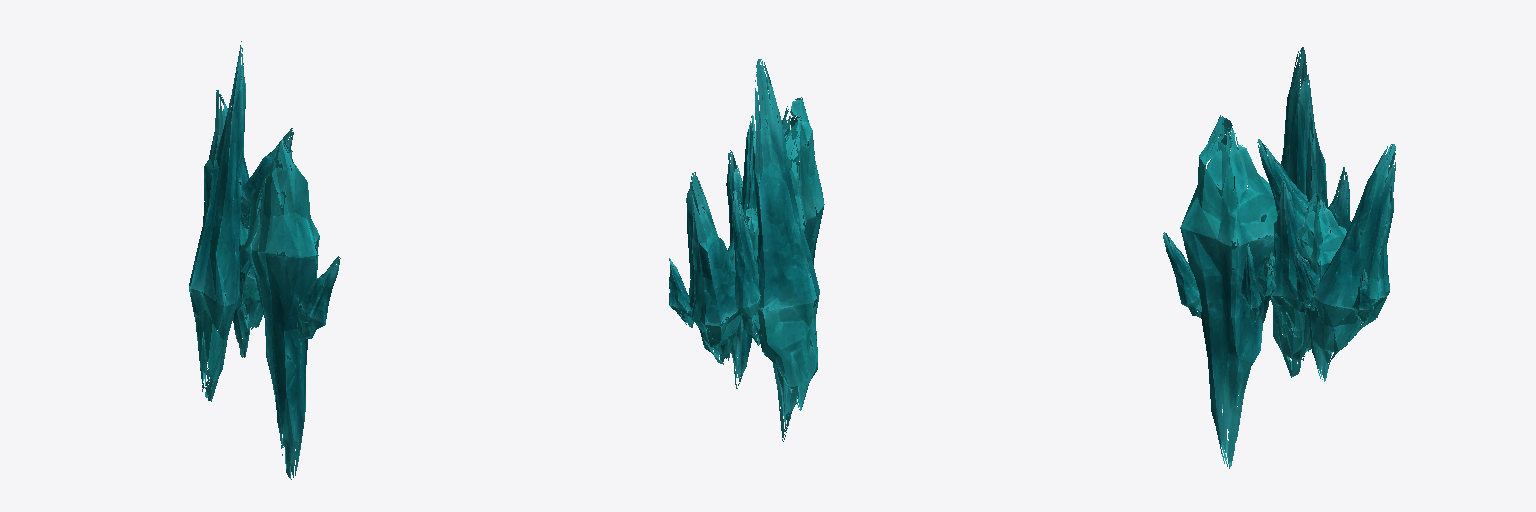
3 views of the same model, side by side, from view 1: azimuth 30°, elevation 25°; view 2: azimuth 150°, elevation 25°; view 3: azimuth 270°, elevation 25° (orthographic).
Parts seen in each view (by area): view 1: world/expansion02/doodads/icecrown/icewall/icecrown_icewall.m2_G; view 2: world/expansion02/doodads/icecrown/icewall/icecrown_icewall.m2_G; view 3: world/expansion02/doodads/icecrown/icewall/icecrown_icewall.m2_G.
Part boxes in pixels (x1,y1,x2,y2): world/expansion02/doodads/icecrown/icewall/icecrown_icewall.m2_G: (189, 41, 340, 479); world/expansion02/doodads/icecrown/icewall/icecrown_icewall.m2_G: (669, 59, 824, 441); world/expansion02/doodads/icecrown/icewall/icecrown_icewall.m2_G: (1163, 47, 1395, 468).
Bounding box in the file's own units: 13.15 × 45.21 × 23.12.
Materials: 1 (1 with a texture image).